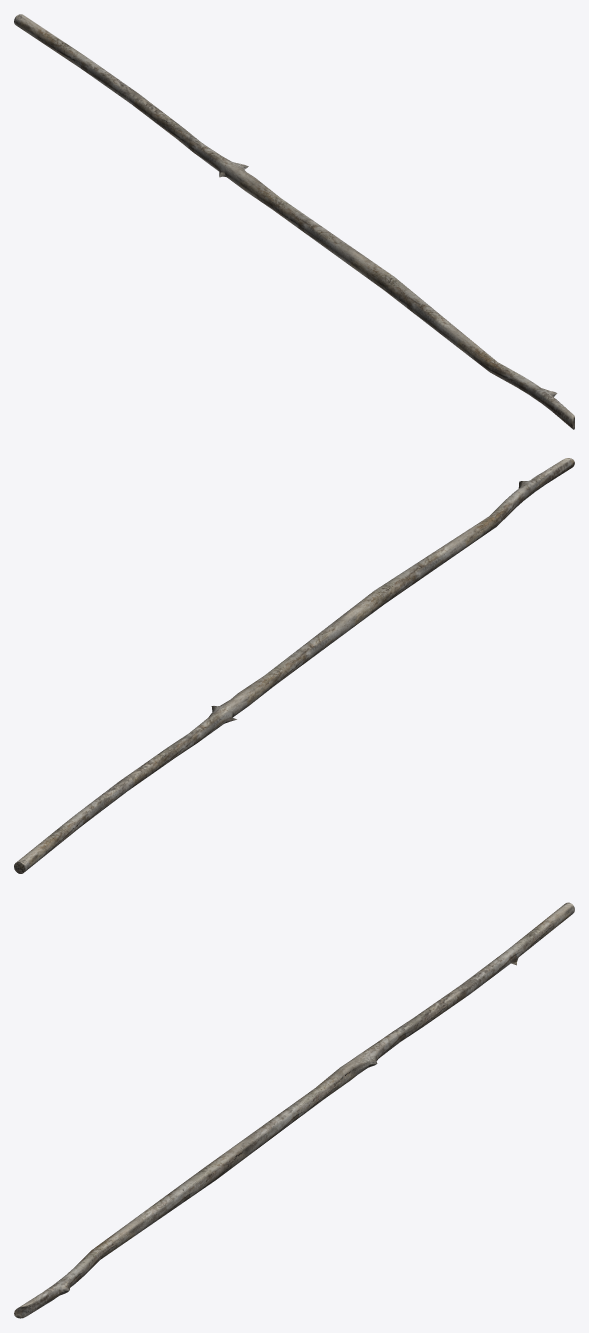
File: SM_Twigs_4.fbx
The picture shows the model from 3 angles, top to bottom: view 1: azimuth 30°, elevation 25°; view 2: azimuth 150°, elevation 25°; view 3: azimuth 330°, elevation 25°; orthographic projection.
Visible parts, largest first — view 1: SM_Twigs_4_LOD0; view 2: SM_Twigs_4_LOD0; view 3: SM_Twigs_4_LOD0.
Part boxes in pixels (<box>): SM_Twigs_4_LOD0: <box>14,14,574,429</box>; SM_Twigs_4_LOD0: <box>14,458,574,873</box>; SM_Twigs_4_LOD0: <box>14,902,574,1318</box>.
Bounding box in the file's own units: 3.92 × 135 × 2.27.
